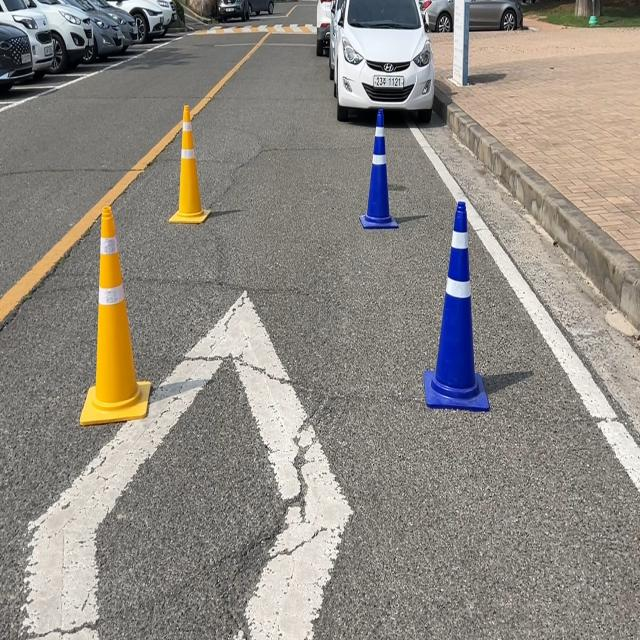b_rub: (424, 200, 490, 410), (360, 107, 399, 228)
y_rub: (80, 204, 150, 425), (169, 104, 210, 223)
